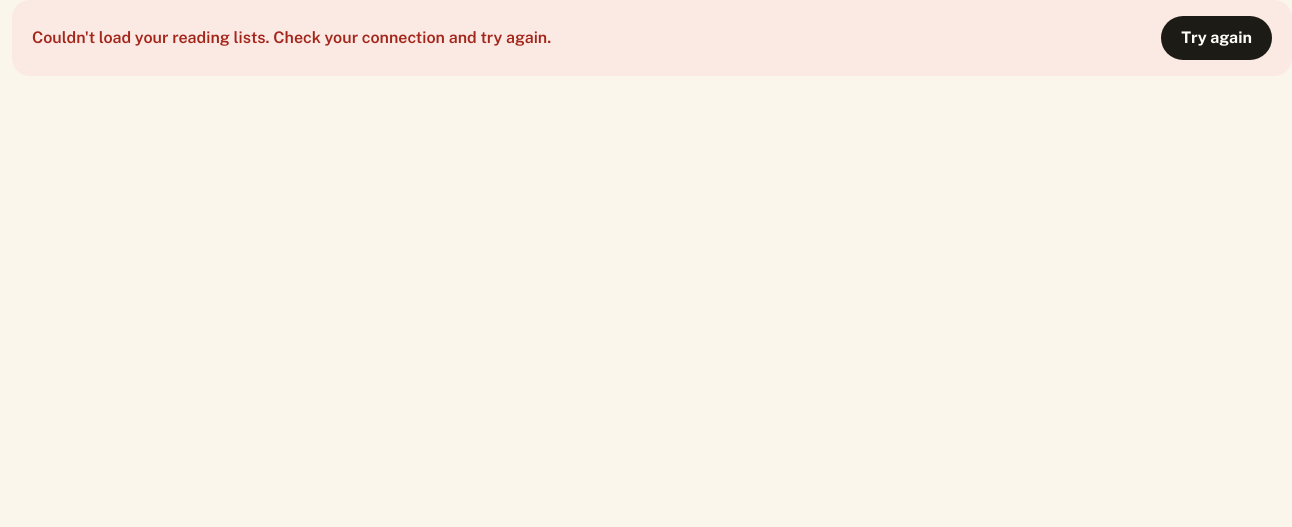
ReadingChallenge › recovers from an initial load failure with Try again
Check: the message shows "Couldn't load your reading lists. Check your connection and try again.", box [32, 28, 551, 47]
Click the button "Try again".
click(1217, 38)  # box [1161, 16, 1272, 60]
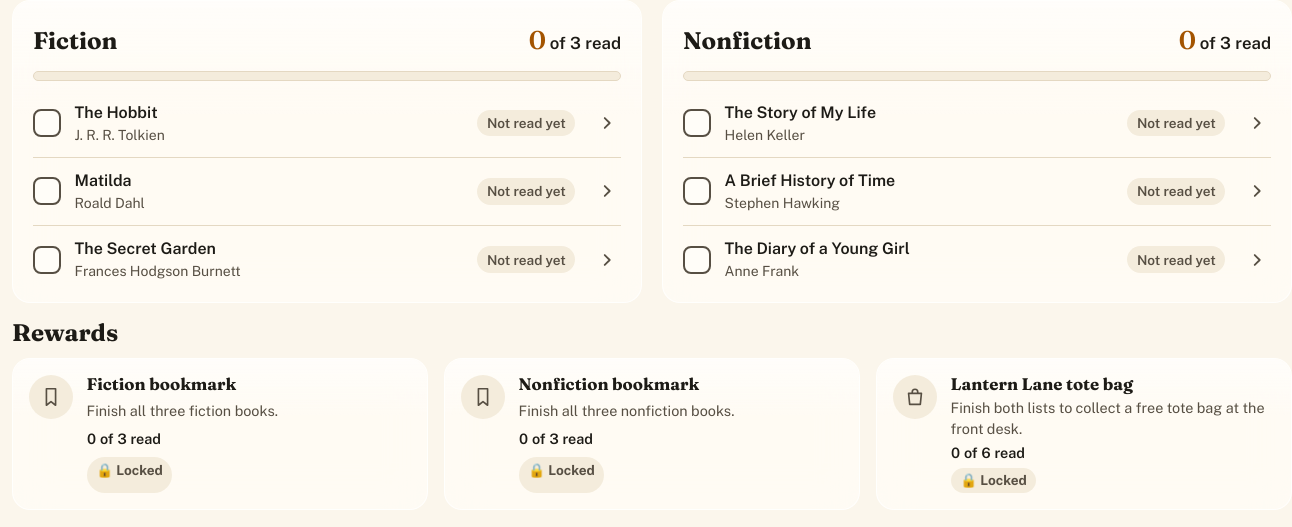
Check: the element with test id "count-fiction" reads "0 of 3 read", box [529, 21, 621, 59]
